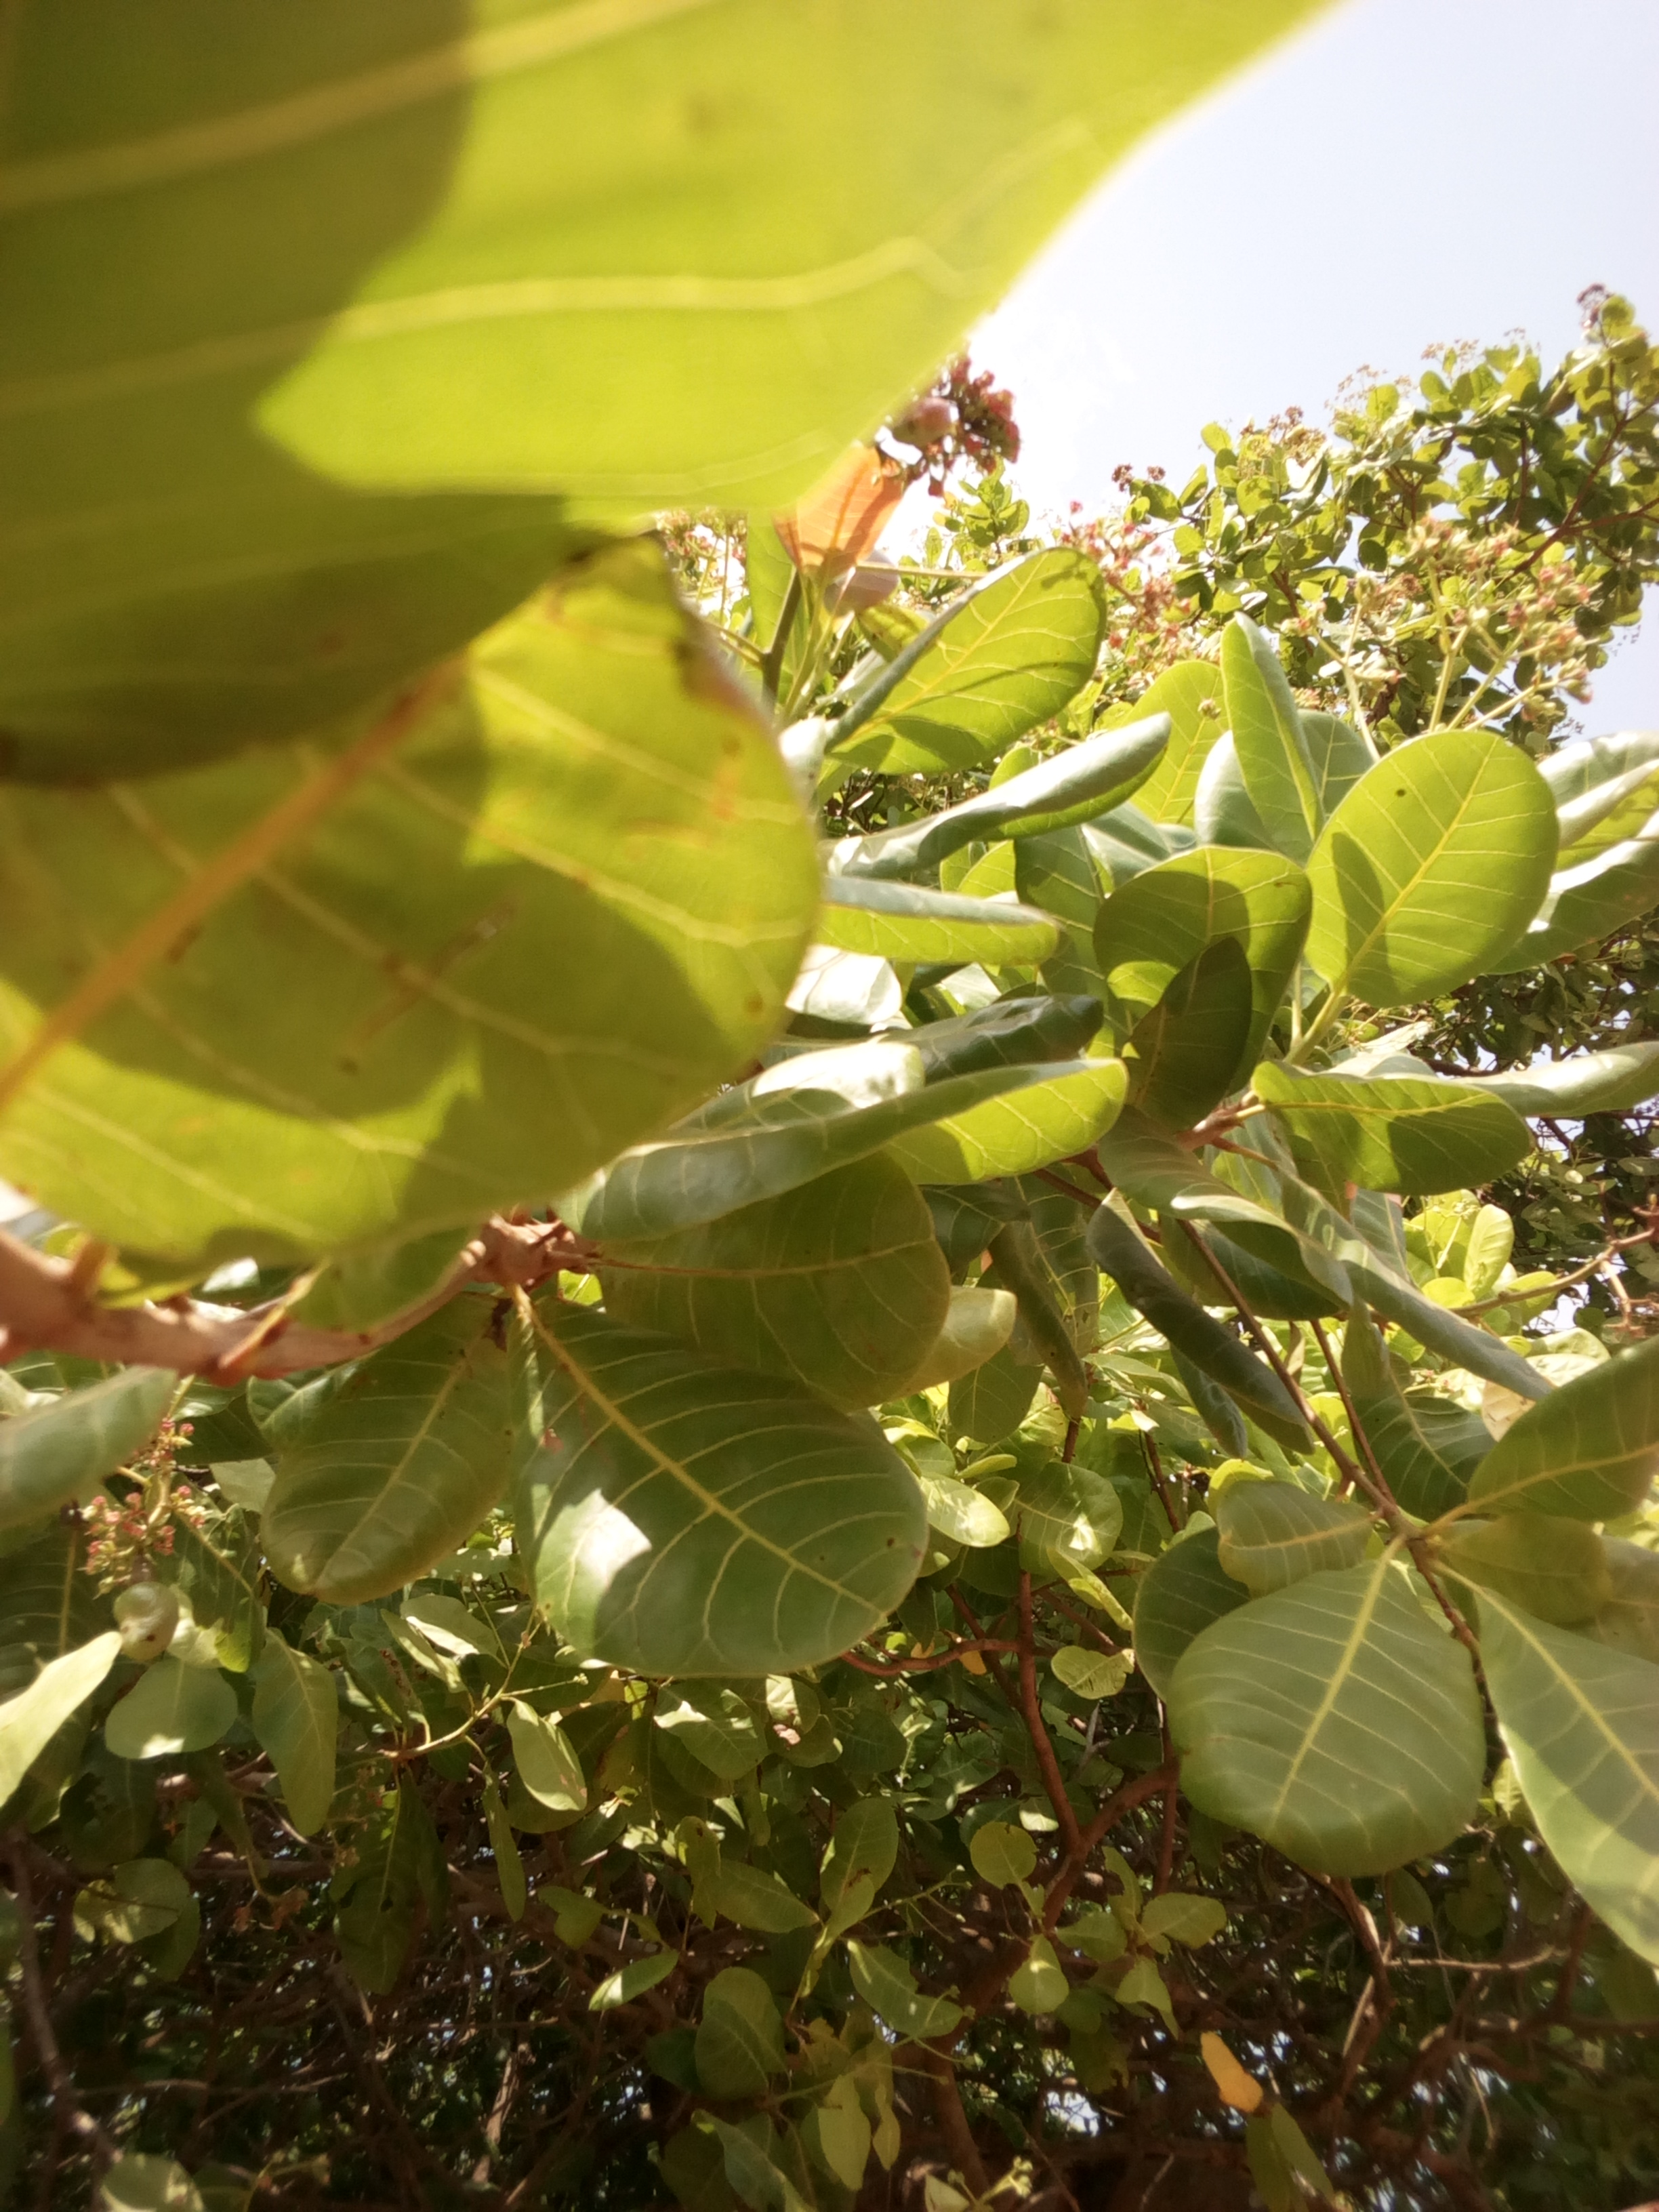Helopeltis anacardii: (1171, 1576, 1476, 1872), (263, 1310, 500, 1597)
